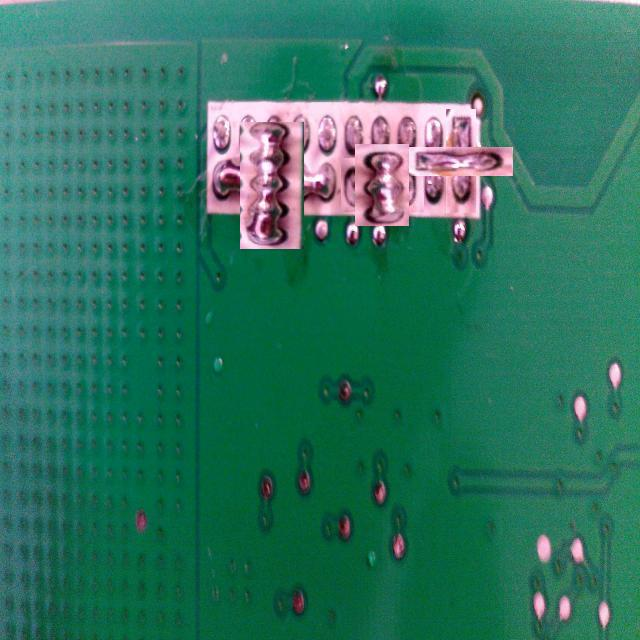Short_circuit: (224, 137, 320, 233), (348, 151, 417, 219), (428, 128, 494, 195)
